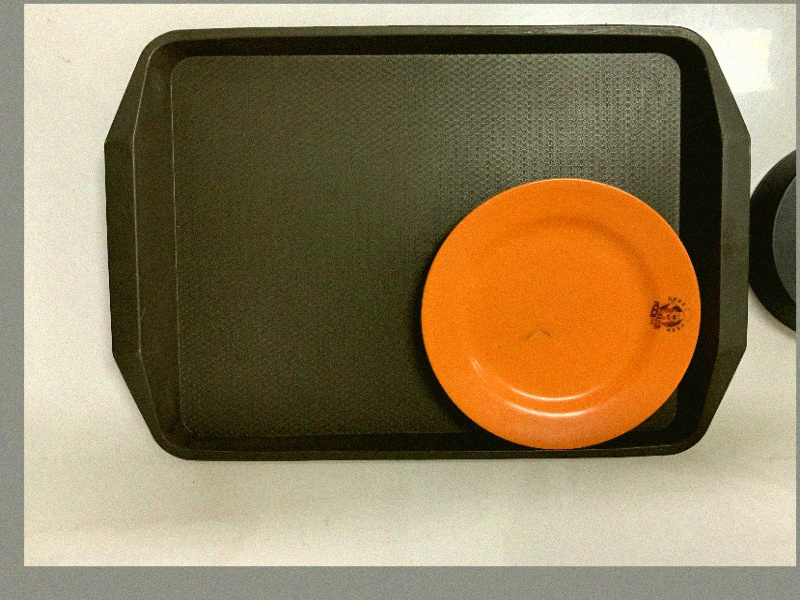dish10: (414, 176, 707, 453)
